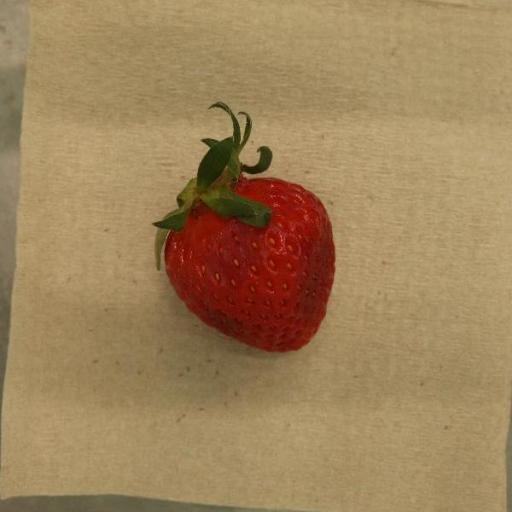Strawberry: (152, 102, 336, 353)
